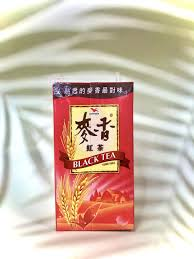鋁箔包: (46, 77, 138, 236)
